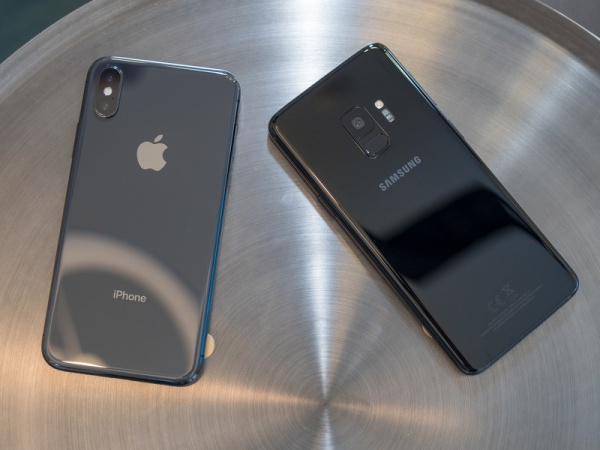apple: (122, 127, 182, 178)
